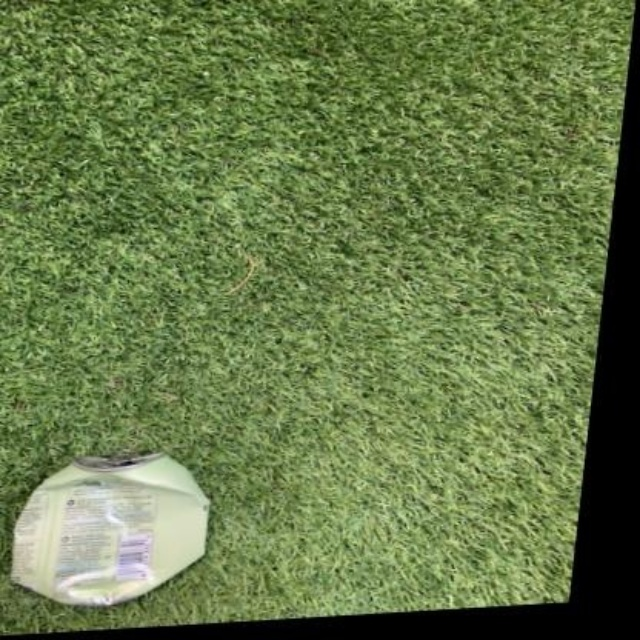trash: (11, 452, 208, 605)
